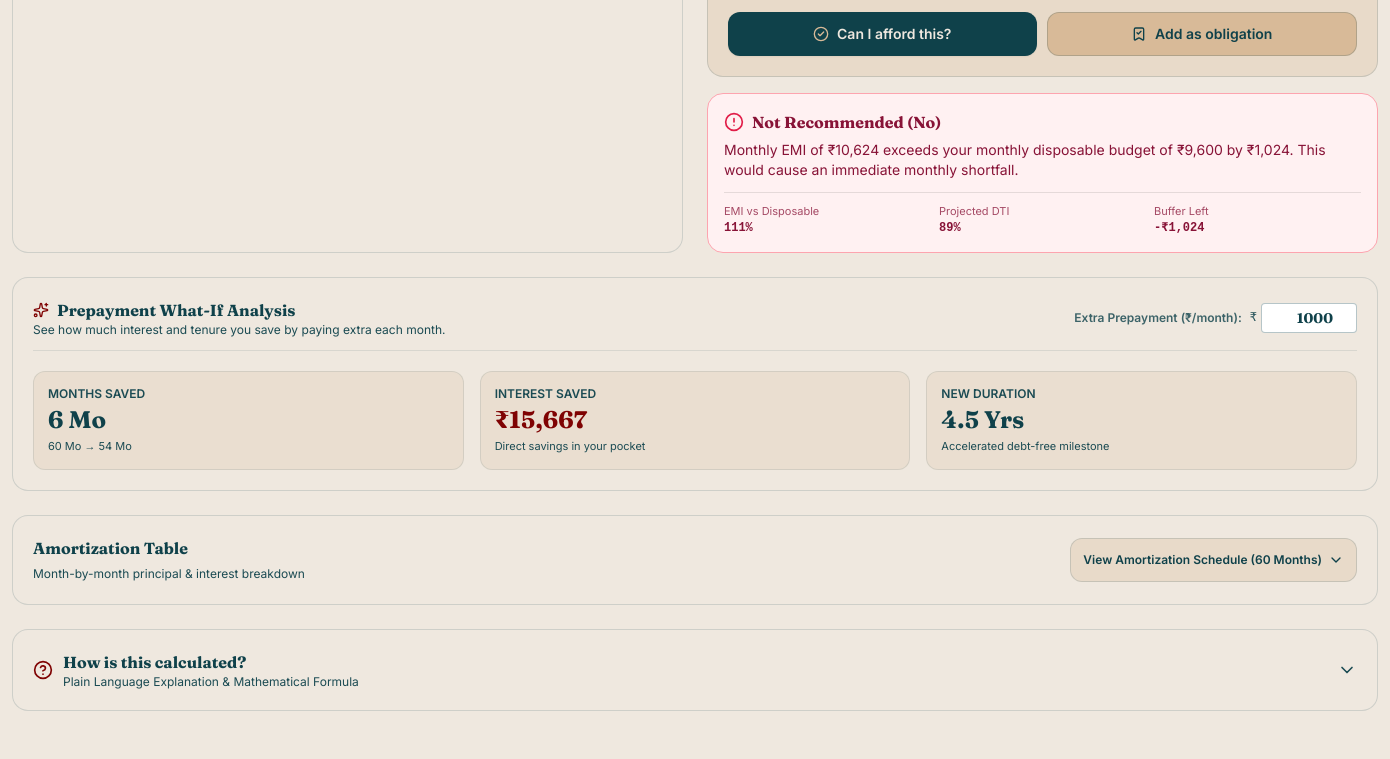
CalculatorsScreen Component Suite › toggles "How is this calculated?" accordion and reveals formula and plain language explanation
The image size is (1390, 759).
(page scrolled)
Note: Click to open
Click the button "How is this calculated?" at [155, 662], box [13,630,1377,710]
(page scrolled)
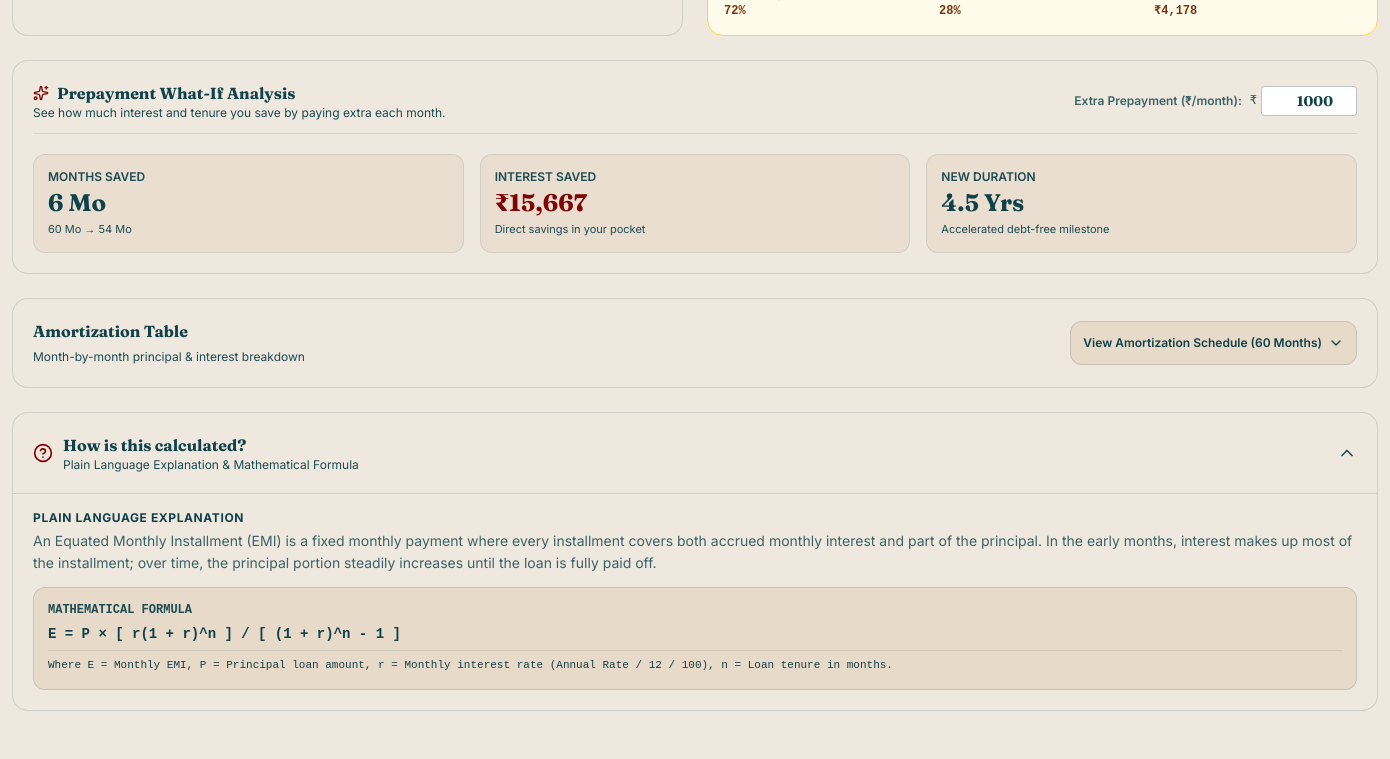
Expected: the text "Plain Language Explanation & Mathematical Formula" is shown, [63,456,359,472]
Now the text "E = P × [ r(1 + r)^n ] / [ (1 + r)^n - 1 ]" is shown, box [48,626,401,642]
